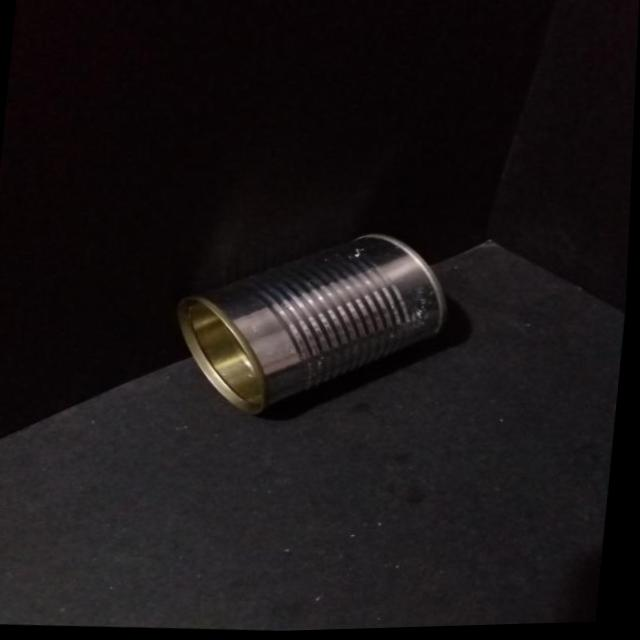metal: (168, 215, 463, 433)
